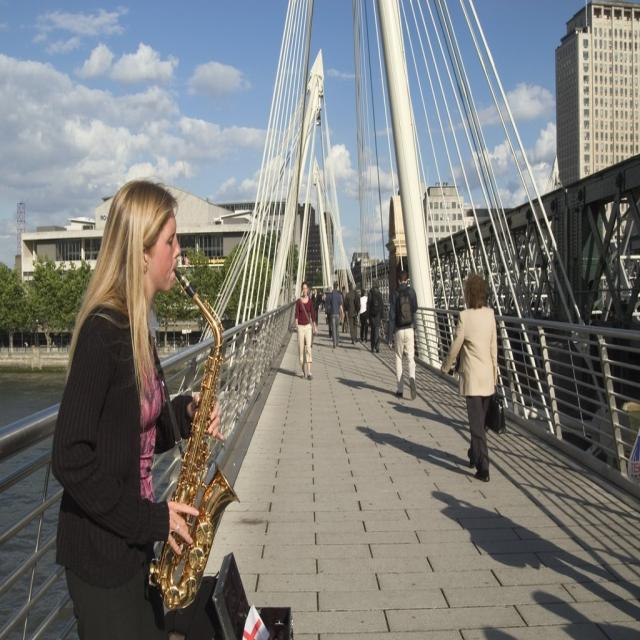saxophone: (150, 265, 240, 615)
